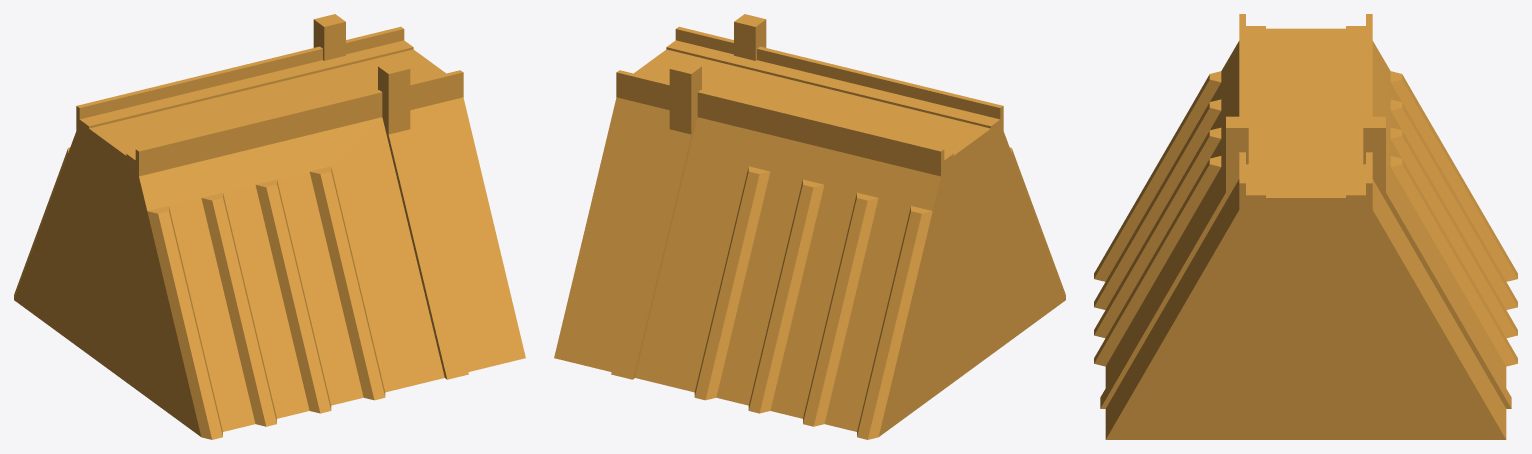
The model's file is dam-branch.glb.
3 renders of one model, left to right at view 1: azimuth 30°, elevation 25°; view 2: azimuth 150°, elevation 25°; view 3: azimuth 270°, elevation 25°, orthographic. The views are drawn at different scales.
Visible parts, largest first — view 1: dam-branch; view 2: dam-branch; view 3: dam-branch.
Boxes of the visible parts, left/top/right/bottom form: dam-branch: left=14, top=14, right=525, bottom=439; dam-branch: left=554, top=14, right=1065, bottom=439; dam-branch: left=1094, top=14, right=1517, bottom=439.
Size of the model in its own units: 30 by 23.2 by 31.73.
